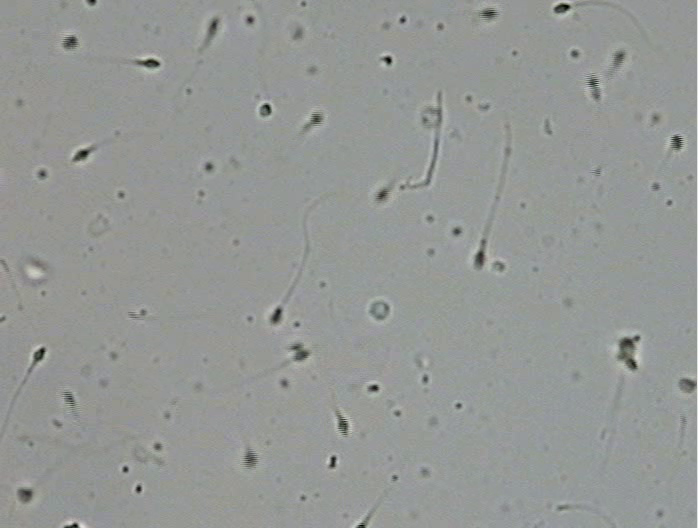Impurity: (368, 300, 390, 321)
S: (585, 73, 601, 99), (288, 343, 310, 361), (618, 337, 635, 360), (242, 449, 258, 469), (61, 35, 79, 51), (336, 415, 349, 437), (479, 8, 499, 21), (679, 378, 696, 393), (61, 391, 75, 409), (670, 134, 684, 152), (612, 51, 625, 68), (72, 149, 88, 162), (142, 58, 160, 69), (474, 250, 485, 268), (33, 347, 46, 362), (17, 489, 32, 502), (310, 111, 323, 126), (271, 307, 282, 324), (375, 189, 389, 202), (207, 20, 218, 36), (554, 3, 571, 13), (624, 358, 637, 371), (260, 103, 272, 116), (356, 522, 367, 528), (86, 1, 96, 6)
